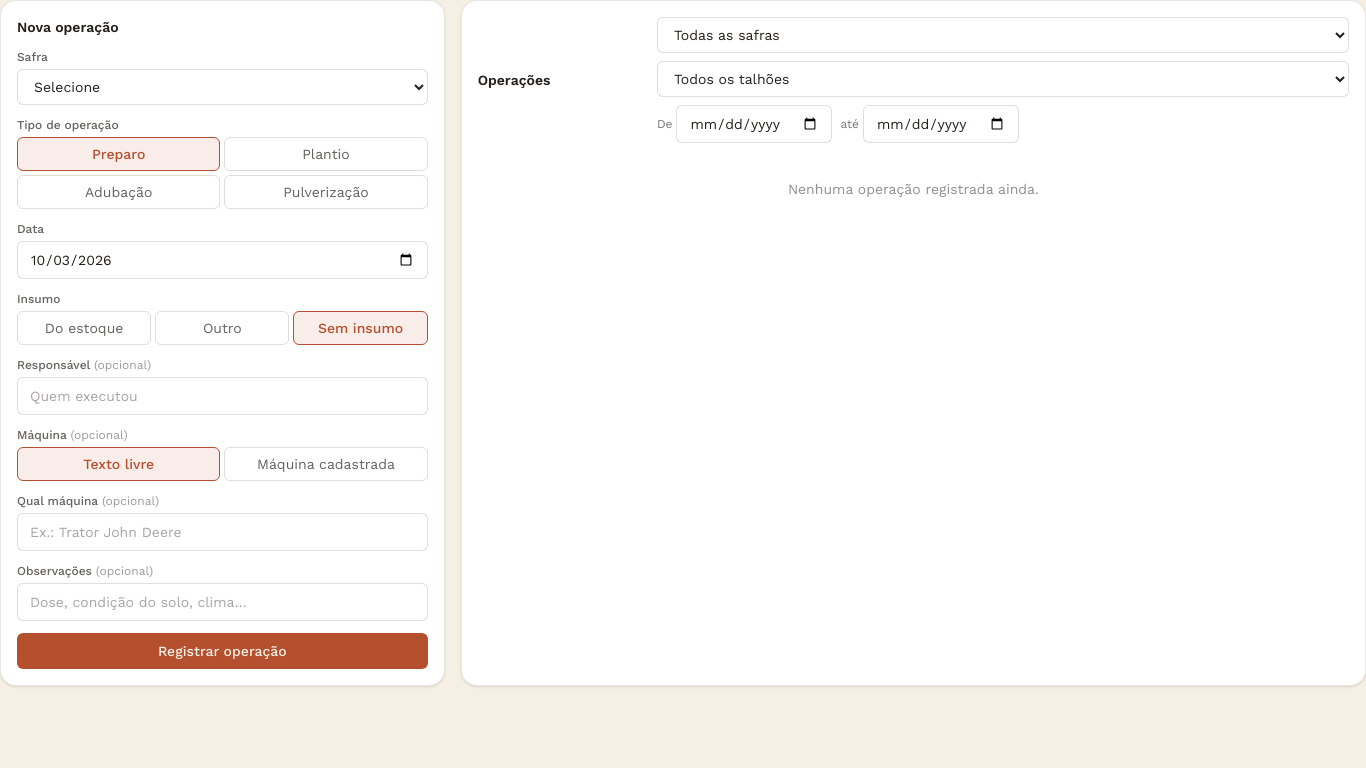
Test: CropOperationsTab › bloqueia quando a leitura da máquina cadastrada é menor que a atual
Select "Soja · Talhão 1" in the dropdown labelled "Safra" at [222, 87], box [17,69,428,105]
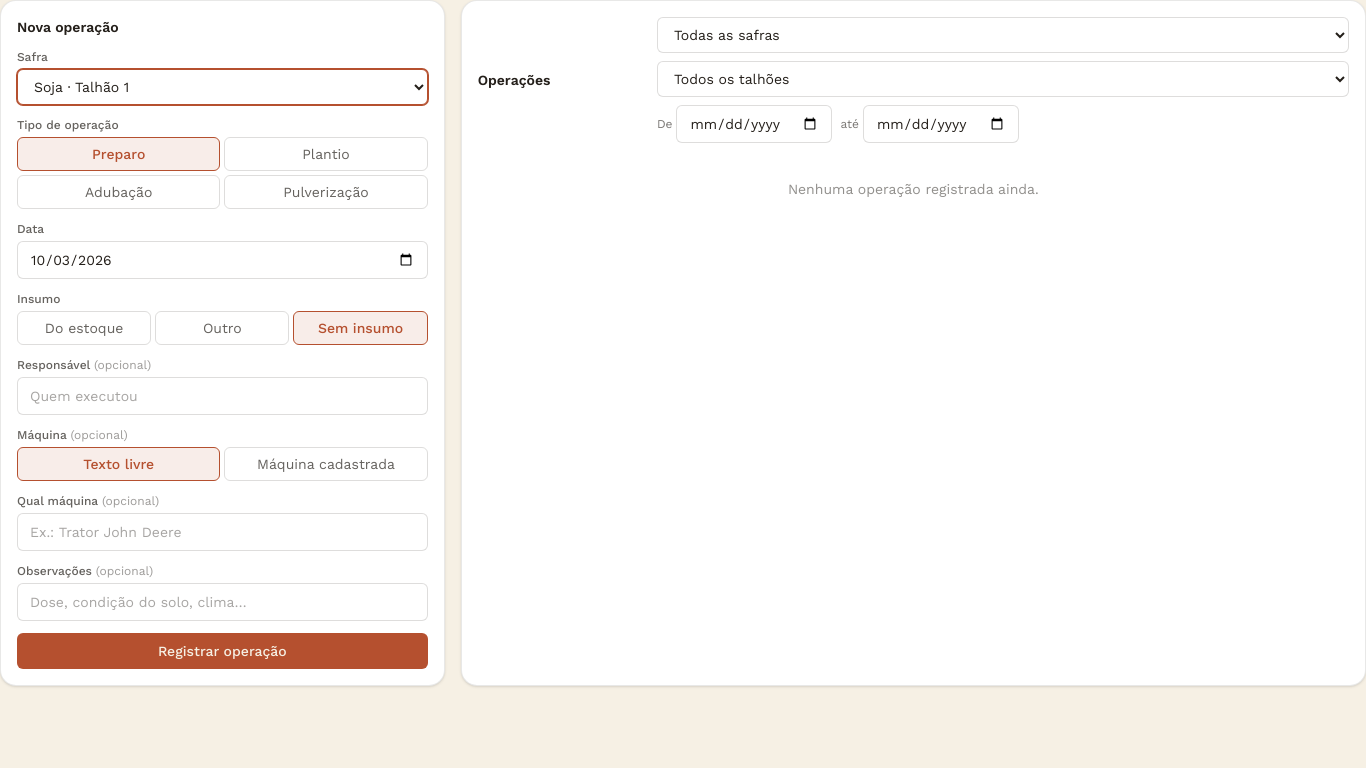
Click the radio button "Máquina cadastrada" at [326, 464], box [224,447,428,481]
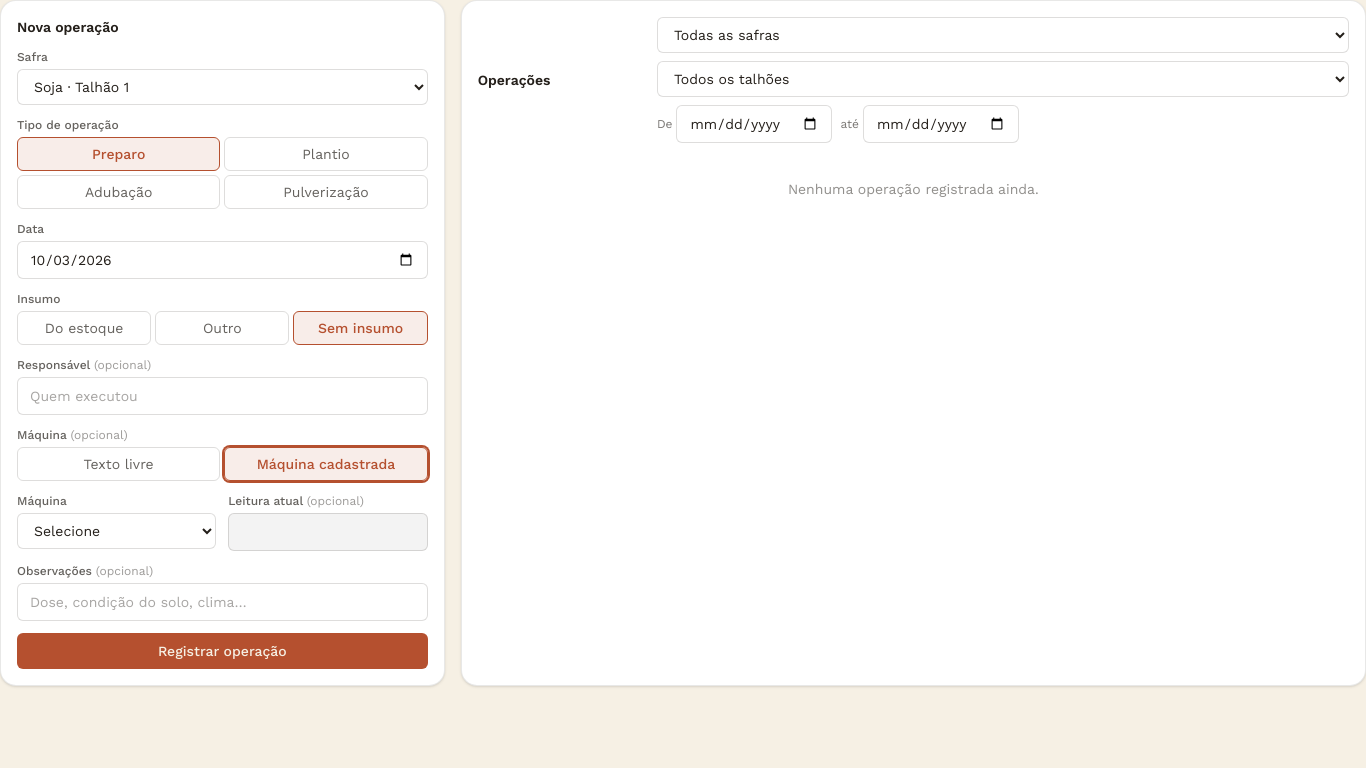
Select "Trator 1" in the dropdown labelled "Máquina" at [117, 531], box [17,513,216,549]
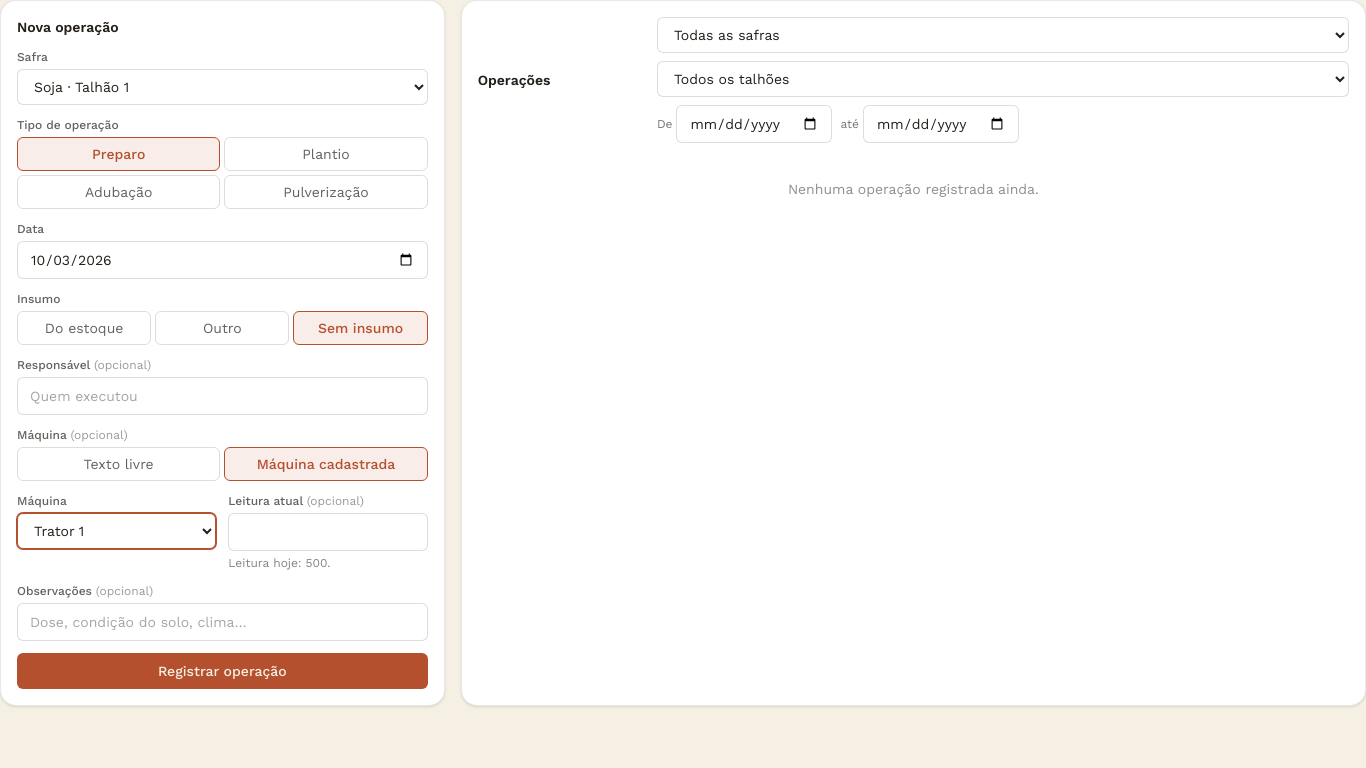
Type "100" into the number field labelled "Leitura atual (opcional)" at [328, 532], box [228,513,428,551]
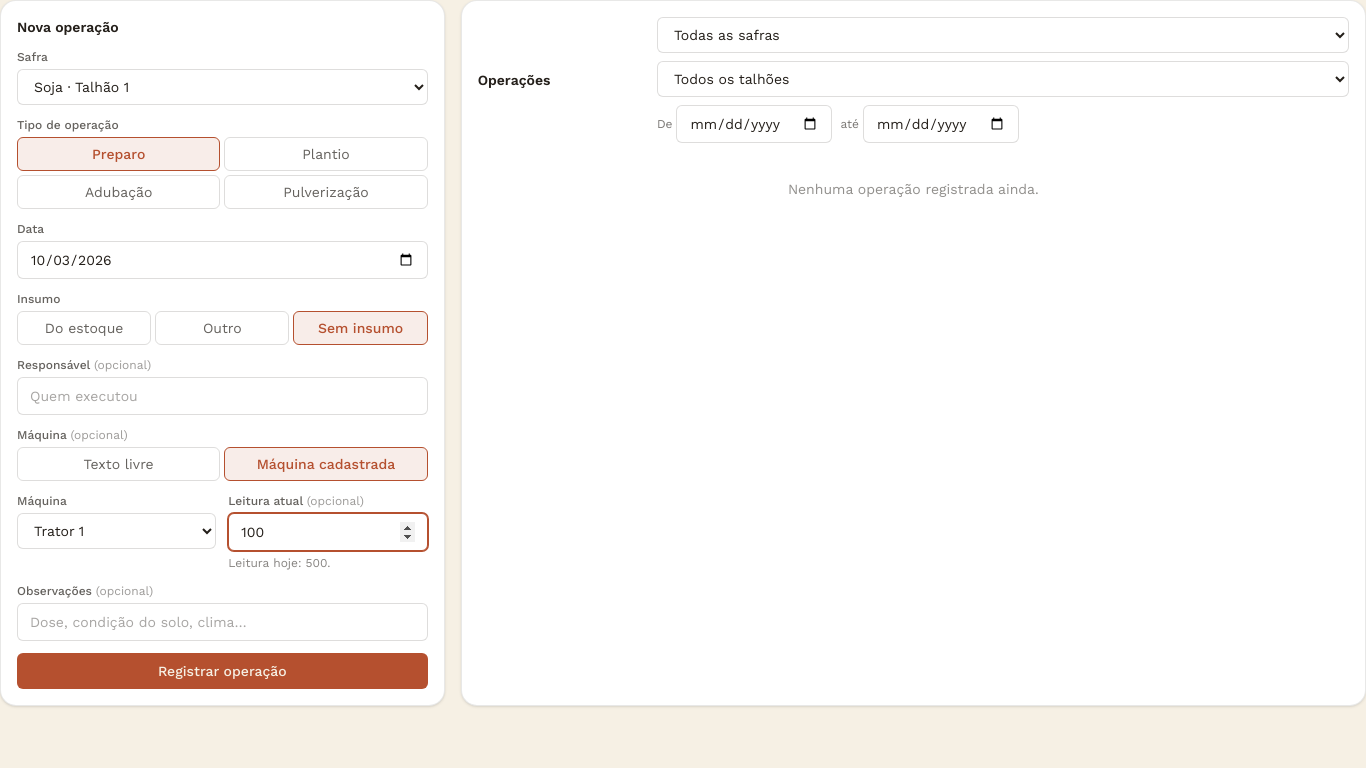
Click the button "Registrar operação" at [222, 671], box [17,653,428,689]
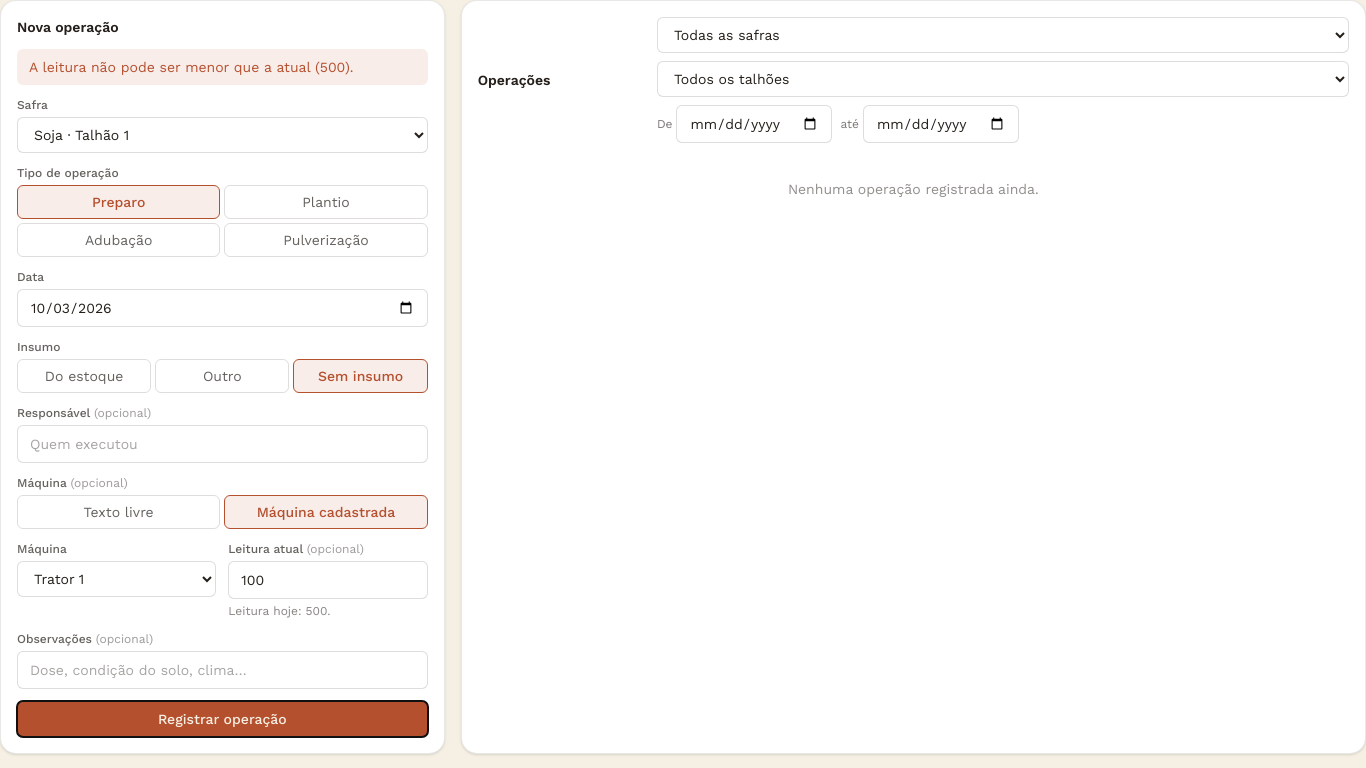
Check: the text "A leitura não pode ser menor que a atual (500)." is shown, box [17,49,428,85]
